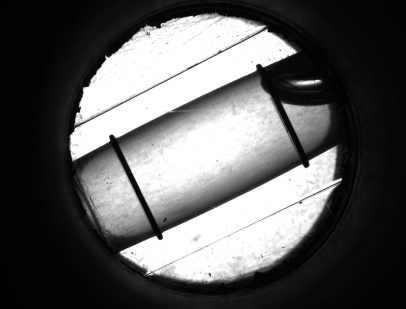line: (113, 156, 157, 215), (273, 113, 306, 145)
